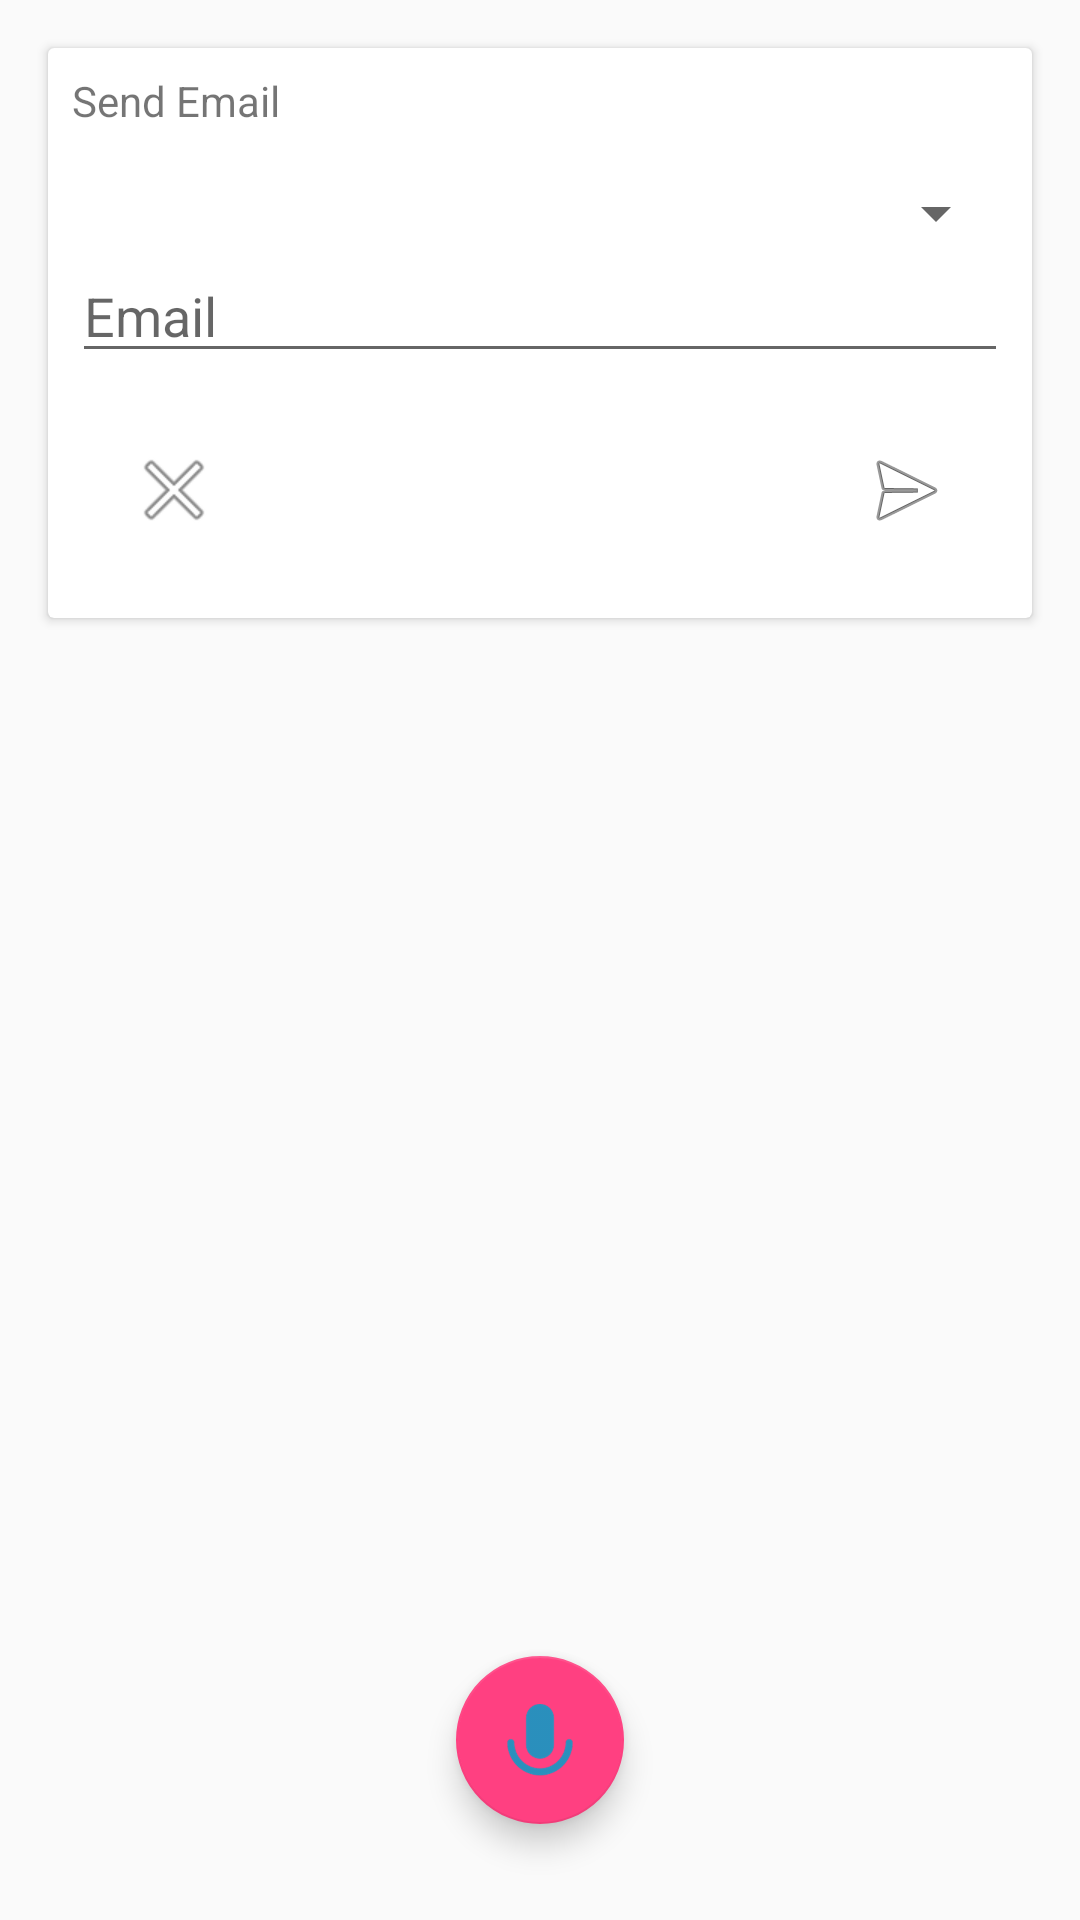

Locate icon controls on the screen. Image size 1080x1920, boxes as (x1, y1, x2, y2).
close clear cancel: (144, 460, 204, 520)
send: (876, 460, 938, 521)
